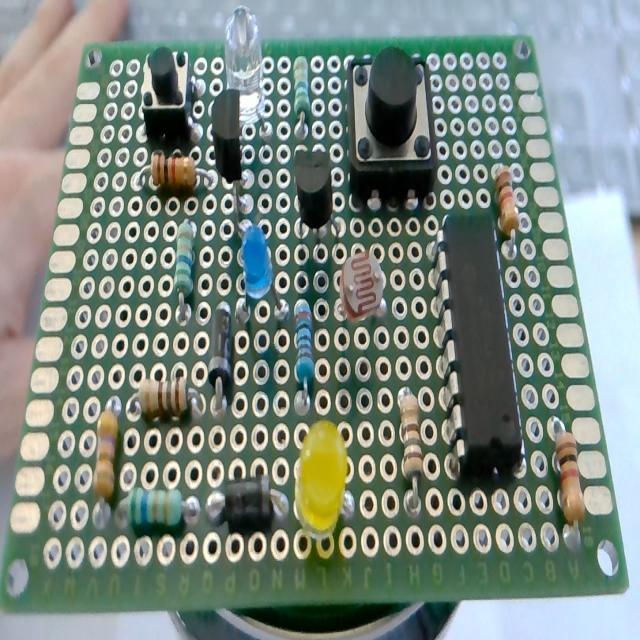IC: (442, 214, 522, 479)
cds: (336, 250, 396, 334)
diode: (202, 473, 290, 533), (209, 302, 233, 402)
led: (288, 418, 356, 543), (222, 10, 272, 135), (237, 220, 288, 326)
resistor: (91, 408, 120, 527), (398, 393, 424, 513), (556, 431, 584, 526), (138, 374, 193, 422), (128, 488, 184, 534), (173, 217, 196, 328), (292, 298, 314, 413), (150, 151, 196, 191), (292, 53, 312, 142), (495, 167, 519, 236)
switch: (346, 47, 436, 207), (141, 46, 193, 144)
transistor: (292, 146, 340, 262), (212, 87, 246, 231)
